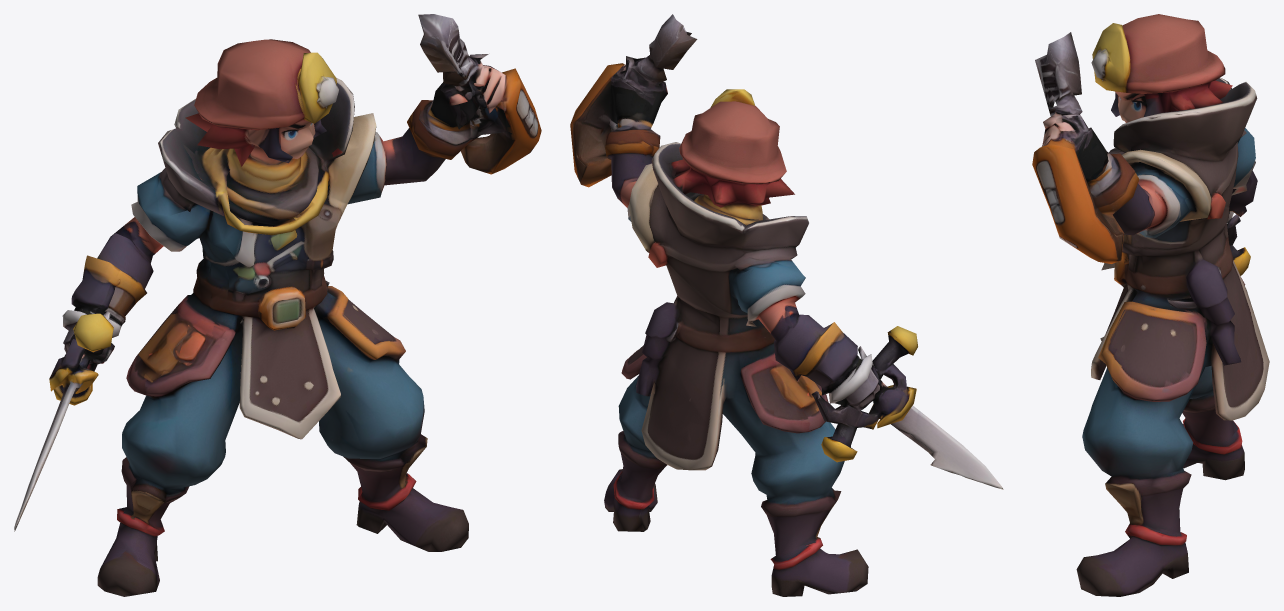
Rendered from fantasy.glb.
The picture shows the model from 3 angles, left to right: view 1: azimuth 30°, elevation 25°; view 2: azimuth 150°, elevation 25°; view 3: azimuth 270°, elevation 25°; orthographic projection. The views are drawn at different scales.
Visible parts, largest first — view 1: tripo_node_981c3b5d-41d7-4c32-b5ec-a8712bcde496; view 2: tripo_node_981c3b5d-41d7-4c32-b5ec-a8712bcde496; view 3: tripo_node_981c3b5d-41d7-4c32-b5ec-a8712bcde496.
Part boxes in pixels (left/top/right/bottom): tripo_node_981c3b5d-41d7-4c32-b5ec-a8712bcde496: left=14, top=14, right=541, bottom=596; tripo_node_981c3b5d-41d7-4c32-b5ec-a8712bcde496: left=570, top=14, right=1003, bottom=596; tripo_node_981c3b5d-41d7-4c32-b5ec-a8712bcde496: left=1032, top=14, right=1269, bottom=596.
Bounding box in the file's own units: 0.9694 × 0.9972 × 0.3993.
Materials: 1 (1 with a texture image).
